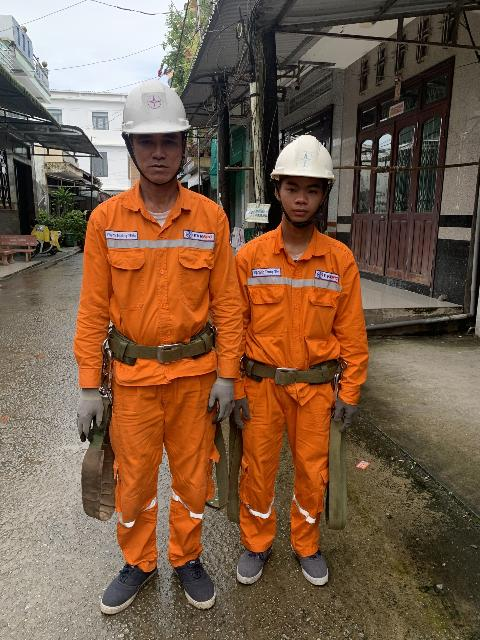gloves: (63, 387, 132, 467), (222, 389, 272, 430), (194, 378, 236, 425), (325, 399, 362, 432)
harness: (105, 318, 235, 375), (223, 343, 358, 388)
helmet: (103, 64, 206, 155), (276, 136, 343, 192)
shoes: (159, 556, 237, 632), (91, 548, 143, 606), (291, 534, 338, 596), (224, 533, 276, 588)
